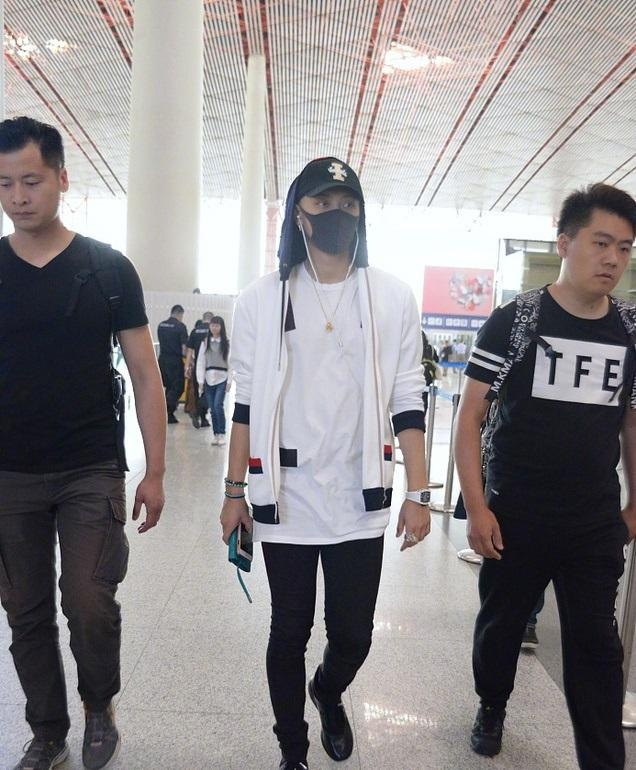Mask: (298, 187, 365, 253)
